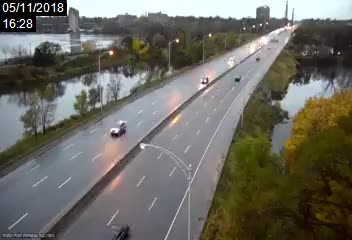personal_car: (101, 223, 130, 240), (108, 120, 128, 137), (199, 75, 210, 85), (232, 74, 242, 82)
